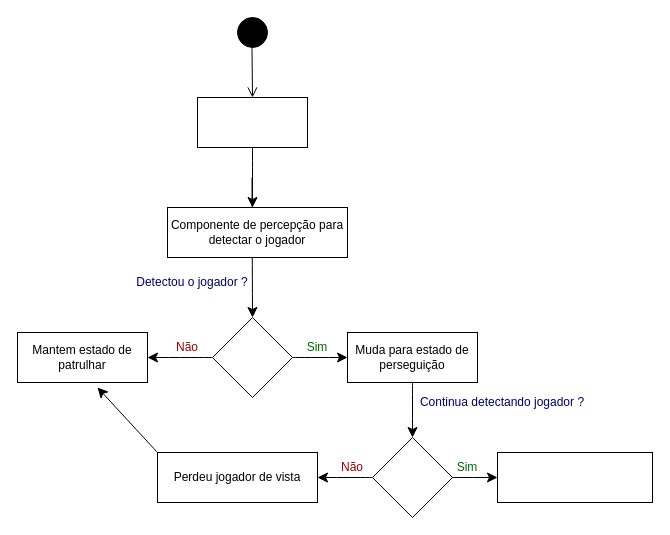
Some shapes in this 670 by 535 pixel diagram are drawn without their labels. Each missing label, with the box of its shape:
Continua a perseguição: (496, 452, 652, 502)
NPC inicia patrulha no ambiente: (196, 96, 308, 148)
